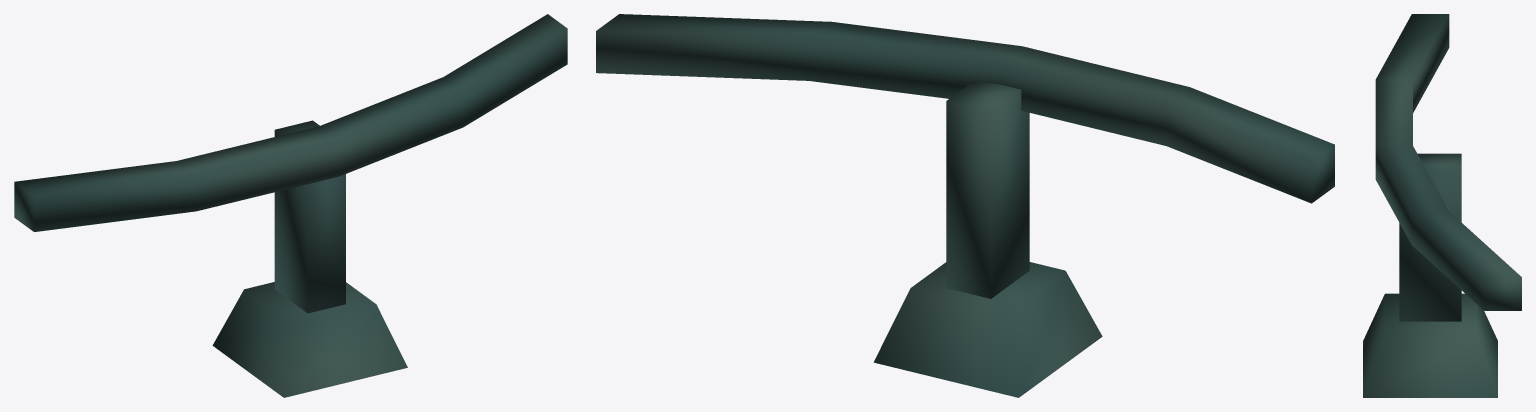
File: lamp_curve_module.glb
The picture shows the model from 3 angles, left to right: view 1: azimuth 30°, elevation 25°; view 2: azimuth 150°, elevation 25°; view 3: azimuth 270°, elevation 25°; orthographic projection. The views are drawn at different scales.
Visible parts, largest first — view 1: Rail; view 2: Rail; view 3: Rail.
Part boxes in pixels (x1,y1,x2,y2): Rail: (14,14,567,397); Rail: (596,14,1334,397); Rail: (1363,14,1521,397).
Size of the model in its own units: 3 by 1.19 by 0.765.
